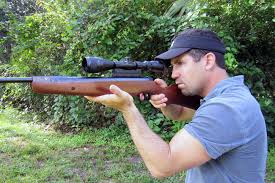Rifle: (1, 58, 201, 111)
